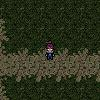Victim: (43, 39, 56, 61)
